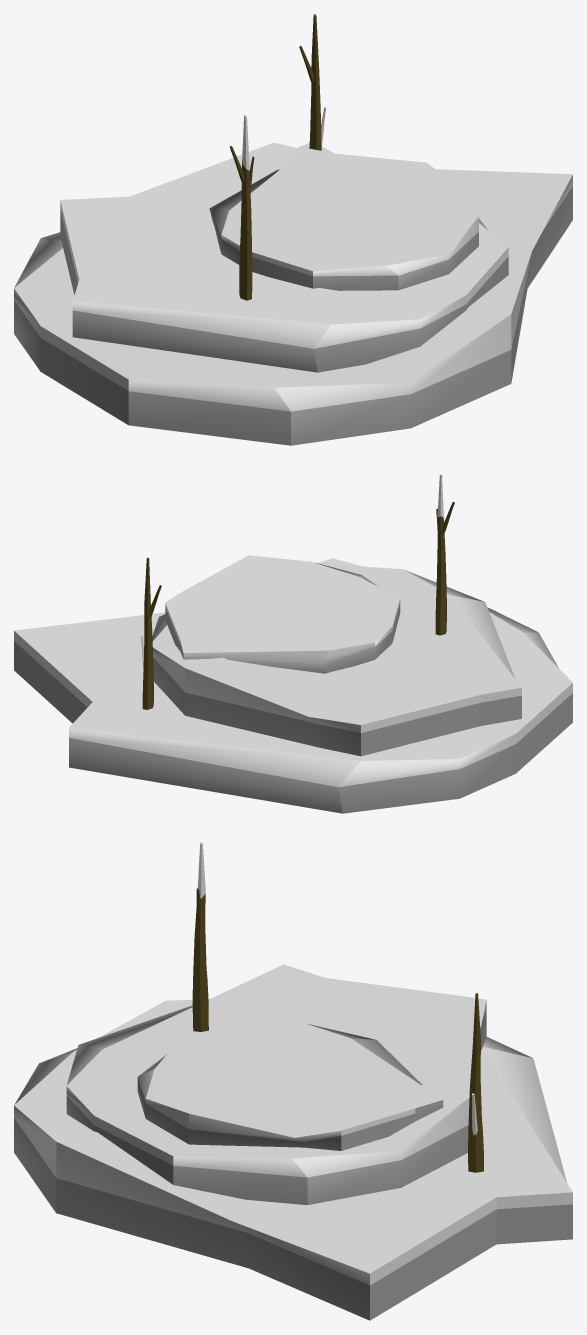
File: SnowAndTrees.fbx
3 renders of one model, top to bottom at view 1: azimuth 30°, elevation 25°; view 2: azimuth 150°, elevation 25°; view 3: azimuth 270°, elevation 25°, orthographic. The views are drawn at different scales.
Parts seen in each view (by area): view 1: polySurface2, polySurface3, polySurface4, Tree:OrangetreeBranch1CircularTree, OrangetreeBranch1CircularTree2; view 2: polySurface2, polySurface3, polySurface4, Tree:OrangetreeBranch1CircularTree, OrangetreeBranch1CircularTree2; view 3: polySurface2, polySurface3, polySurface4, Tree:OrangetreeBranch1CircularTree, OrangetreeBranch1CircularTree2.
Boxes of the visible parts, left/top/right/bottom form: polySurface2: left=14, top=143, right=572, bottom=445; polySurface3: left=60, top=142, right=508, bottom=372; polySurface4: left=209, top=148, right=478, bottom=290; Tree:OrangetreeBranch1CircularTree: left=239, top=114, right=252, bottom=300; OrangetreeBranch1CircularTree2: left=309, top=14, right=321, bottom=150; polySurface2: left=14, top=558, right=572, bottom=813; polySurface3: left=152, top=565, right=521, bottom=756; polySurface4: left=165, top=555, right=400, bottom=673; Tree:OrangetreeBranch1CircularTree: left=435, top=474, right=446, bottom=635; OrangetreeBranch1CircularTree2: left=142, top=557, right=153, bottom=709; polySurface2: left=14, top=999, right=572, bottom=1320; polySurface3: left=66, top=964, right=486, bottom=1204; polySurface4: left=137, top=1023, right=443, bottom=1150; Tree:OrangetreeBranch1CircularTree: left=192, top=842, right=208, bottom=1031; OrangetreeBranch1CircularTree2: left=468, top=993, right=483, bottom=1172.
Bounding box in the file's own units: 20.08 × 9.18 × 17.03.
